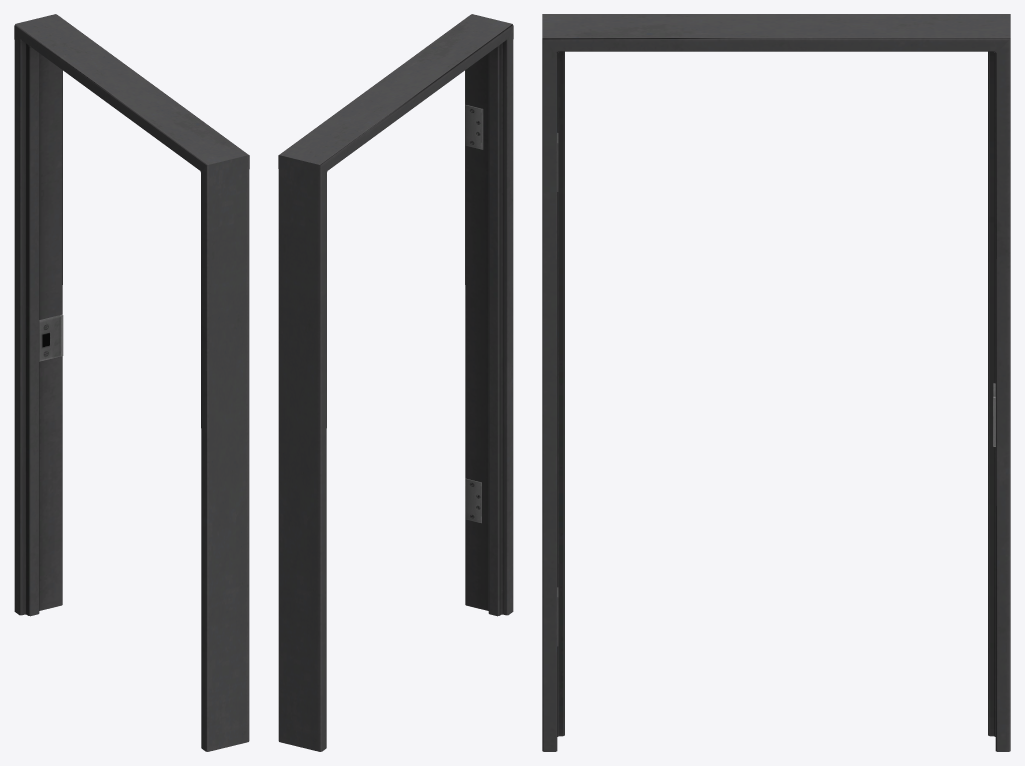
Rendered from p6_door_frame_metal_58_lod0.glb.
3 renders of one model, left to right at view 1: azimuth 30°, elevation 25°; view 2: azimuth 150°, elevation 25°; view 3: azimuth 270°, elevation 25°, orthographic. The views are drawn at different scales.
Visible parts, largest first — view 1: surf0; view 2: surf0; view 3: surf0.
Boxes of the visible parts, x1=… form: surf0: x1=14, y1=14, x2=249, y2=751; surf0: x1=278, y1=14, x2=513, y2=751; surf0: x1=542, y1=14, x2=1010, y2=751.
Bounding box in the file's own units: 8.04 × 104 × 61.92.
